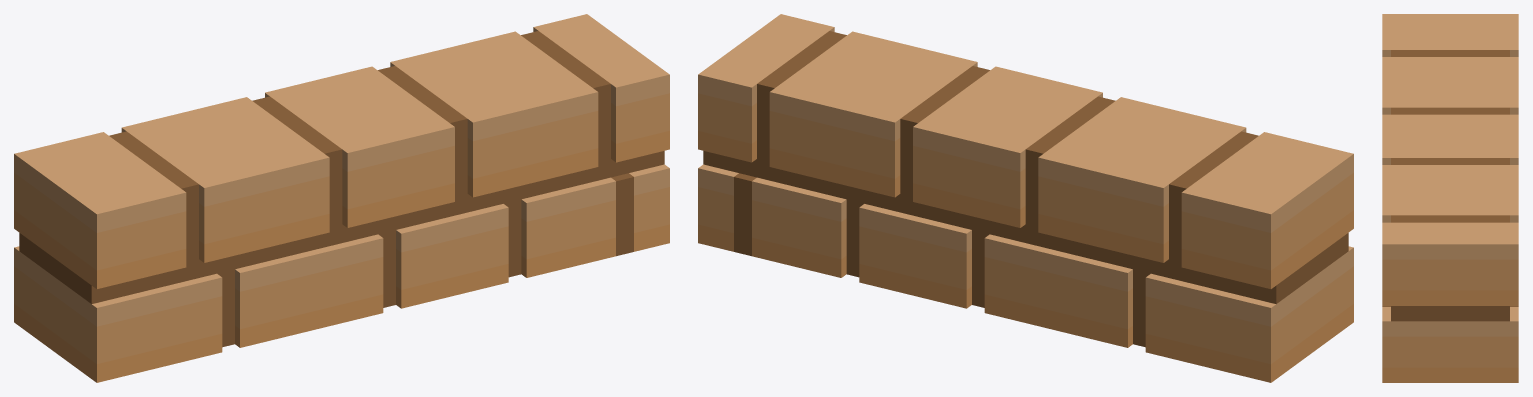
The model's file is DesertBrickWall_2Tall.fbx.
3 renders of one model, left to right at view 1: azimuth 30°, elevation 25°; view 2: azimuth 150°, elevation 25°; view 3: azimuth 270°, elevation 25°, orthographic. The views are drawn at different scales.
Visible parts, largest first — view 1: generated; view 2: generated; view 3: generated.
Part boxes in pixels (left/top/right/bottom): generated: left=14, top=14, right=669, bottom=382; generated: left=698, top=14, right=1353, bottom=382; generated: left=1382, top=14, right=1518, bottom=382.
Bounding box in the file's own units: 320 × 90 × 80.
